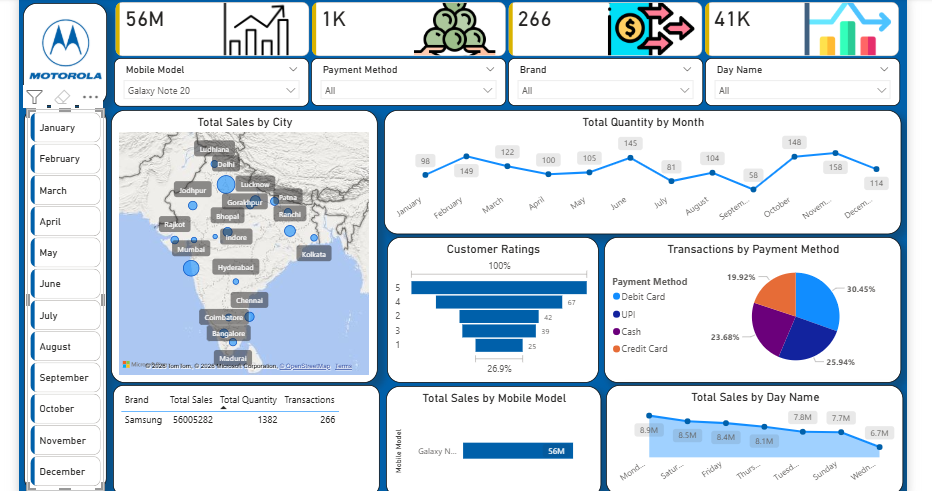

The page's visual inventory and layout, read from the dashboard file:
{"tool":"powerbi","page":{"name":"Page 1","canvas":[1280,720],"ordinal":0},"visuals":[{"type":"shape","box":[5.5,6.9,120.8,148.2],"z":0},{"type":"image","box":[9.6,16.5,113.9,116.6],"z":1000},{"type":"shape","box":[6.9,156.4,119.4,554.4],"z":2000},{"type":"advancedSlicerVisual","fields":{"Values":["Sales_Data.Date.Variation.Date Hierarchy.Month"]},"box":[11,160.5,111.1,548.9],"z":3000},{"type":"cardVisual","fields":{"Data":["Sales_Data.Total Sales","Sales_Data.Total Quantity","Sales_Data.Transactions","Sales_Data.Average"]},"box":[134,5.6,1140.1,83.7],"z":4000},{"type":"map","fields":{"Category":["Sales_Data.City"],"Size":["Sales_Data.Total Sales"]},"box":[132.9,160.8,384.1,393.1],"z":5000},{"type":"lineChart","fields":{"Y":["Sales_Data.Total Quantity"],"Category":["Sales_Data.Date.Variation.Date Hierarchy.Month","Sales_Data.Date.Variation.Date Hierarchy.Day"]},"box":[525.9,160.8,744.8,178.7],"z":6000},{"type":"clusteredBarChart","fields":{"Category":["Sales_Data.Mobile Model"],"Y":["Sales_Data.Total Sales"]},"box":[528.3,558.5,310.1,160.5],"z":7000},{"type":"pieChart","fields":{"Category":["Sales_Data.Payment Method"],"Y":["Sales_Data.Transactions"]},"box":[842.5,344.4,428.1,209.9],"z":8000},{"type":"funnel","title":"Customer Ratings","fields":{"Category":["Sales_Data.Customer Ratings"],"Y":["CountNonNull(Sales_Data.Customer Ratings)"]},"box":[529.7,344.4,304.6,209.9],"z":9000},{"type":"areaChart","fields":{"Category":["Sales_Data.Day Name"],"Y":["Sales_Data.Total Sales"]},"box":[845.3,557.1,428.1,159.2],"z":10000},{"type":"tableEx","fields":{"Values":["Sales_Data.Brand","Sales_Data.Total Sales","Sales_Data.Total Quantity","Sales_Data.Transactions"]},"box":[135.8,557.1,384.2,159.2],"z":11000},{"type":"slicer","fields":{"Values":["Sales_Data.Mobile Model"]},"box":[136.2,87.1,281.4,70.3],"z":12000},{"type":"slicer","fields":{"Values":["Sales_Data.Payment Method"]},"box":[421,87.1,281.4,69.2],"z":13000},{"type":"slicer","fields":{"Values":["Sales_Data.Brand"]},"box":[703.5,87.1,281.4,69.2],"z":14000},{"type":"slicer","fields":{"Values":["Sales_Data.Day Name"]},"box":[988.2,87.1,281.4,69.2],"z":15000}]}

Visuals, with their boxes in screenshot pixels (x1, y1, x2, y2):
shape: box(21, 0, 105, 103)
image: box(24, 7, 103, 88)
shape: box(22, 104, 105, 490)
advancedSlicerVisual - Sales_Data.Date.Variation.Date Hierarchy.Month: box(25, 107, 102, 489)
cardVisual - Sales_Data.Total Sales x Sales_Data.Total Quantity: box(110, 0, 904, 57)
map - Sales_Data.City x Sales_Data.Total Sales: box(110, 107, 377, 381)
lineChart - Sales_Data.Total Quantity x Sales_Data.Date.Variation.Date Hierarchy.Month: box(383, 107, 902, 232)
clusteredBarChart - Sales_Data.Mobile Model x Sales_Data.Total Sales: box(385, 384, 601, 490)
pieChart - Sales_Data.Payment Method x Sales_Data.Transactions: box(604, 235, 902, 381)
"Customer Ratings" funnel: box(386, 235, 598, 381)
areaChart - Sales_Data.Day Name x Sales_Data.Total Sales: box(605, 383, 904, 490)
tableEx - Sales_Data.Brand x Sales_Data.Total Sales: box(112, 383, 379, 490)
slicer - Sales_Data.Mobile Model: box(112, 56, 308, 105)
slicer - Sales_Data.Payment Method: box(310, 56, 506, 104)
slicer - Sales_Data.Brand: box(507, 56, 703, 104)
slicer - Sales_Data.Day Name: box(705, 56, 901, 104)
